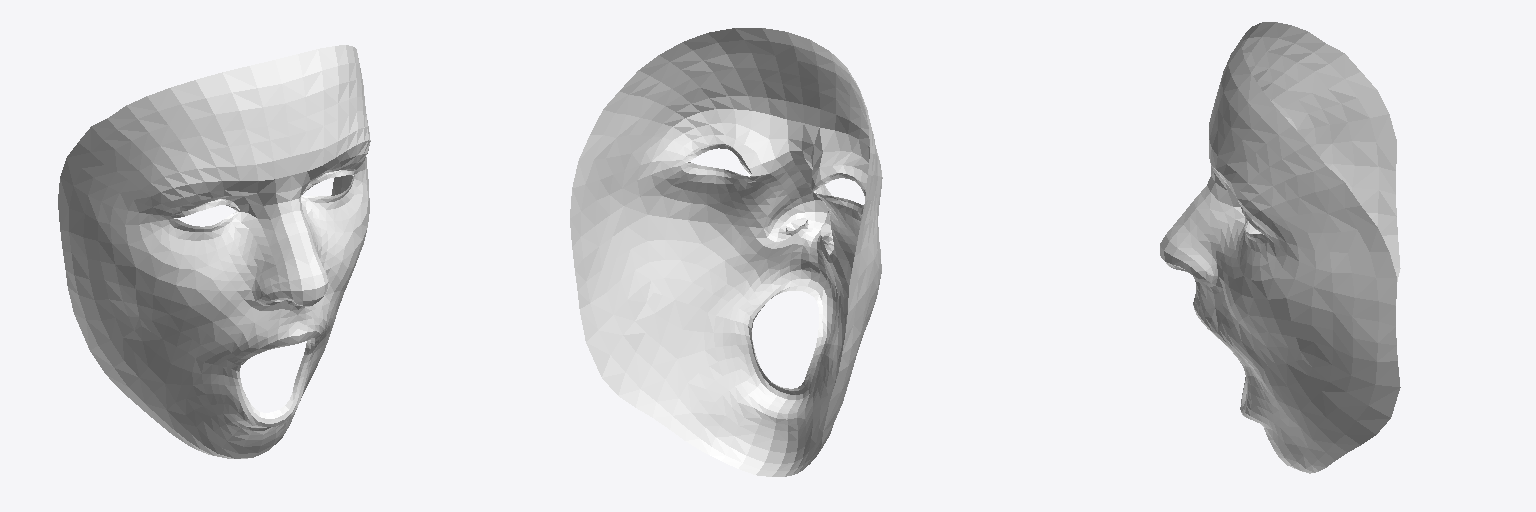
Rendered from jawOpen.obj.
The picture shows the model from 3 angles: view 1: azimuth 30°, elevation 25°; view 2: azimuth 150°, elevation 25°; view 3: azimuth 270°, elevation 25°; orthographic projection.
Visible parts, largest first — view 1: default; view 2: default; view 3: default.
Boxes of the visible parts, box(x1,y1,x2,y2) form: default: box(58, 45, 370, 458); default: box(570, 28, 882, 476); default: box(1160, 22, 1400, 473).
Size of the model in its own units: 0.1447 by 0.2059 by 0.107.